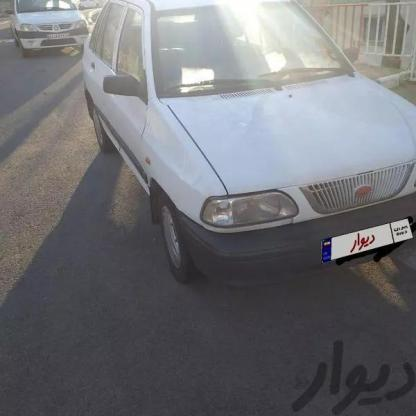Car: (55, 0, 415, 275), (1, 0, 110, 76)
